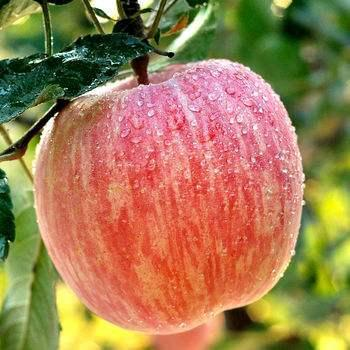apple: (37, 56, 303, 335)
